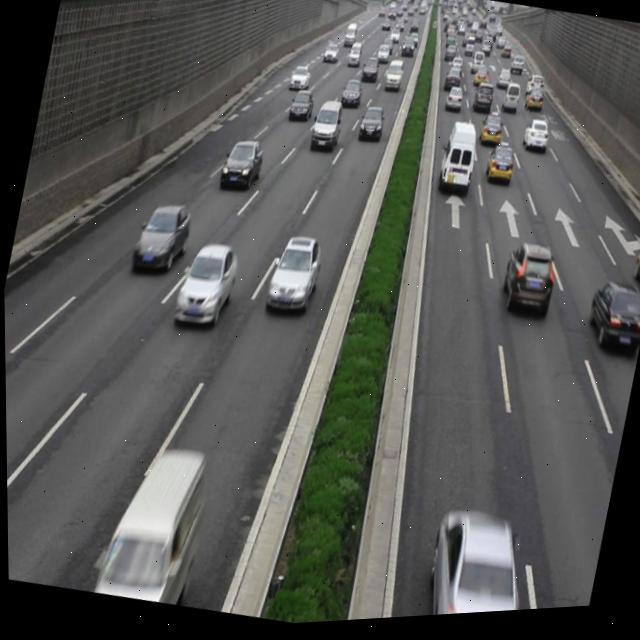car: (409, 512, 530, 621), (173, 242, 238, 329), (262, 232, 323, 321), (581, 279, 640, 361), (496, 243, 557, 321), (132, 201, 191, 271), (217, 136, 265, 193), (481, 147, 514, 194), (310, 104, 342, 151), (516, 119, 550, 163), (356, 106, 387, 147), (476, 114, 504, 153), (287, 90, 316, 127), (626, 238, 640, 307), (338, 79, 361, 112)
truck: (93, 442, 208, 606), (432, 123, 480, 205)
